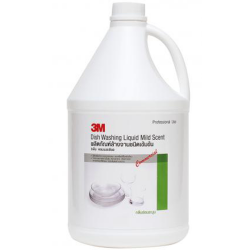Cleaning_solution: (63, 1, 194, 250)
